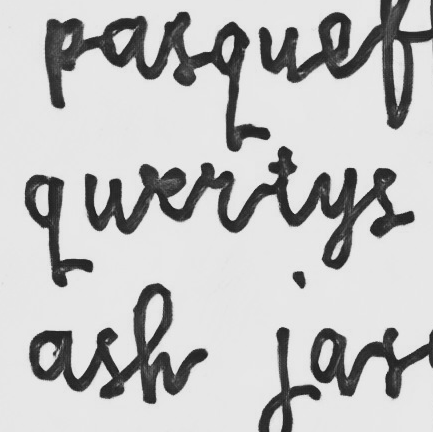e: (155, 165, 190, 223)
q: (20, 171, 78, 290)
r: (191, 159, 238, 235)
s: (366, 165, 400, 239)
t: (264, 143, 306, 229)
w: (81, 161, 153, 236)
y: (314, 163, 360, 273)
